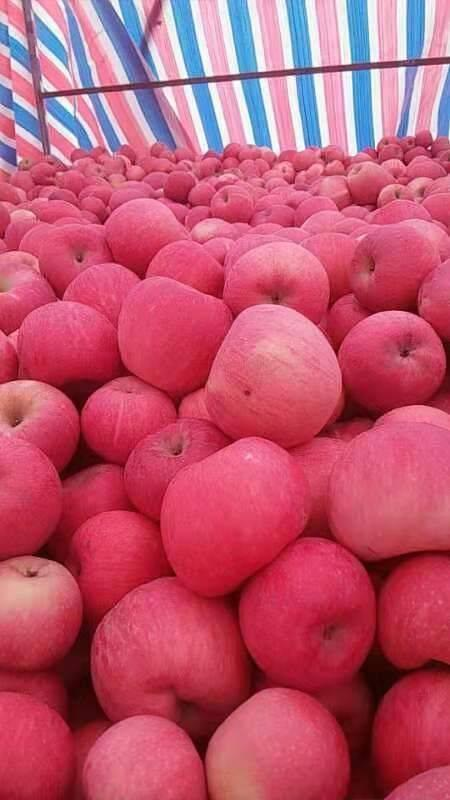apple: (90, 577, 257, 738), (161, 438, 309, 601), (229, 529, 370, 683), (202, 304, 344, 454), (326, 422, 450, 564), (207, 687, 355, 796), (117, 278, 232, 395), (65, 508, 173, 618), (120, 418, 232, 523), (334, 307, 444, 411), (81, 717, 209, 800), (1, 556, 83, 674), (16, 301, 120, 394), (224, 243, 332, 324), (379, 551, 450, 673), (81, 375, 180, 460), (348, 224, 440, 313), (2, 435, 66, 559), (1, 378, 82, 471), (106, 199, 186, 276), (36, 224, 111, 297), (344, 161, 395, 205), (212, 184, 254, 225)
